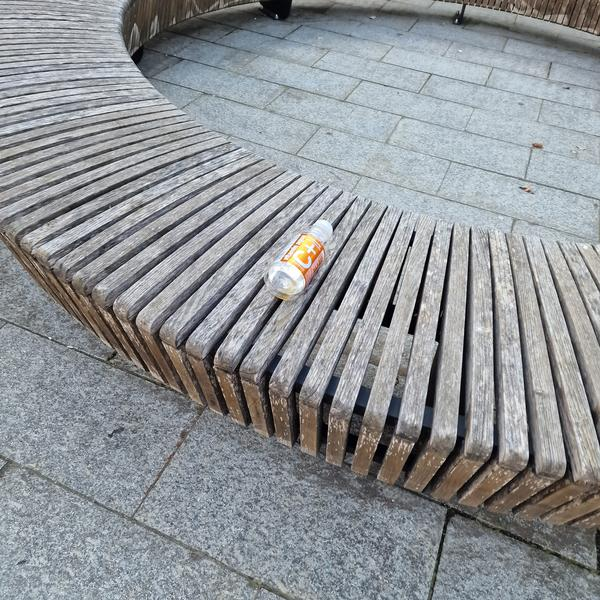plastic_bottle: (256, 206, 344, 308)
